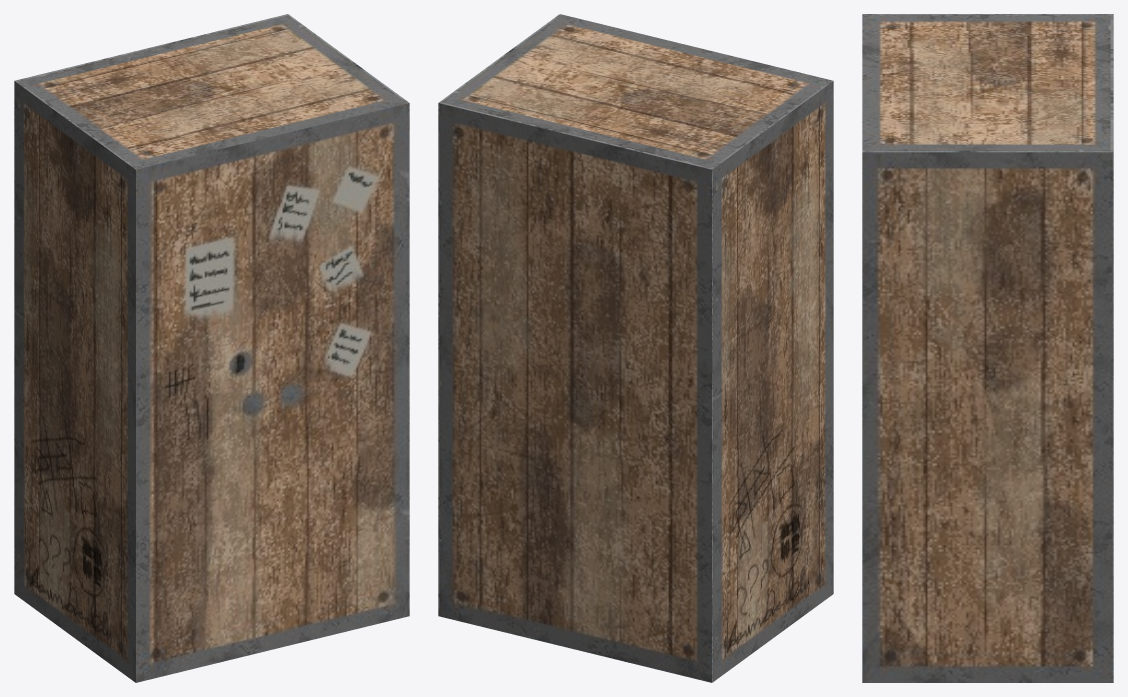
The model's file is tool_cupboard_textured.glb.
3 renders of one model, left to right at view 1: azimuth 30°, elevation 25°; view 2: azimuth 150°, elevation 25°; view 3: azimuth 270°, elevation 25°, orthographic. The views are drawn at different scales.
Parts seen in each view (by area): view 1: Cube.003; view 2: Cube.003; view 3: Cube.003.
Part boxes in pixels (left/top/right/bottom): Cube.003: left=14, top=14, right=409, bottom=682; Cube.003: left=438, top=14, right=833, bottom=682; Cube.003: left=862, top=14, right=1113, bottom=682.
Size of the model in its own units: 0.7083 by 1.27 by 0.5447.
Materials: 1 (1 with a texture image).
